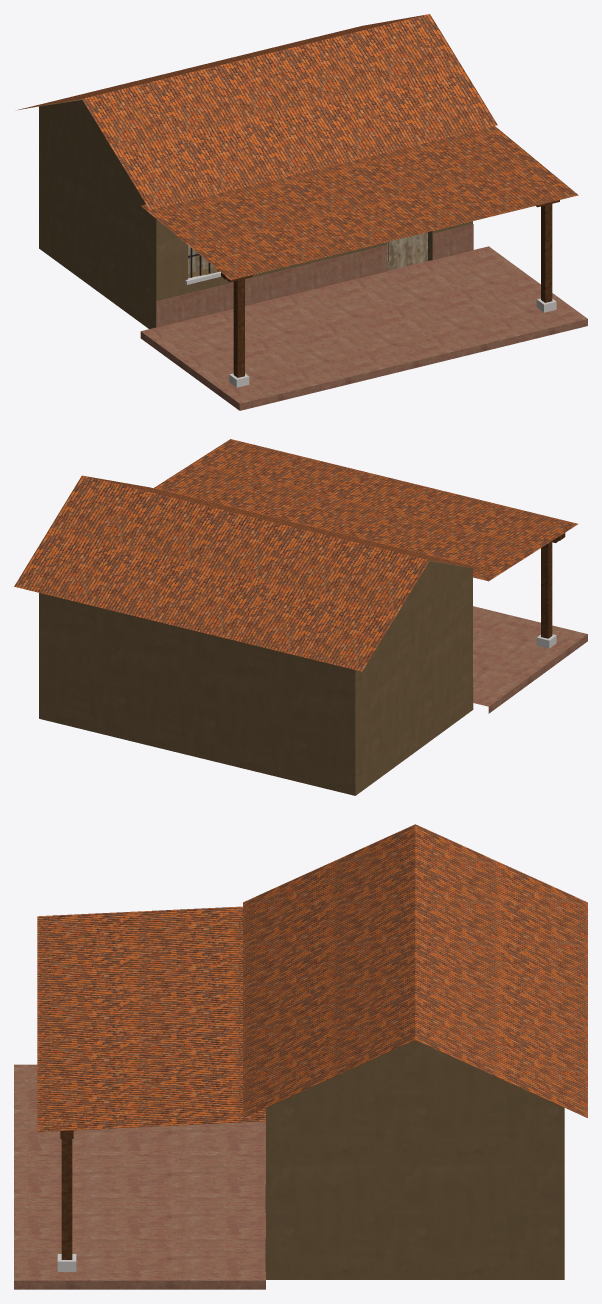
Rendered from casa_adobe_altar.gltf.
The picture shows the model from 3 angles, top to bottom: view 1: azimuth 30°, elevation 25°; view 2: azimuth 150°, elevation 25°; view 3: azimuth 270°, elevation 25°; orthographic projection. The views are drawn at different scales.
Parts seen in each view (by area): view 1: portal, techo, casa_adobe_altar, puerta, ventana; view 2: casa_adobe_altar, techo, portal; view 3: portal, techo, casa_adobe_altar.
Boxes of the visible parts, bbox=[...] form: portal: bbox=[140, 126, 587, 410]; techo: bbox=[17, 14, 497, 209]; casa_adobe_altar: bbox=[39, 99, 473, 328]; puerta: bbox=[387, 232, 427, 270]; ventana: bbox=[185, 245, 220, 284]; casa_adobe_altar: bbox=[39, 560, 473, 795]; techo: bbox=[14, 475, 495, 671]; portal: bbox=[154, 439, 587, 713]; portal: bbox=[14, 906, 265, 1289]; techo: bbox=[243, 824, 587, 1117]; casa_adobe_altar: bbox=[265, 1040, 564, 1279].
Size of the model in its own units: 7.7 by 4.15 by 8.65.
7 materials, 6 textured.
